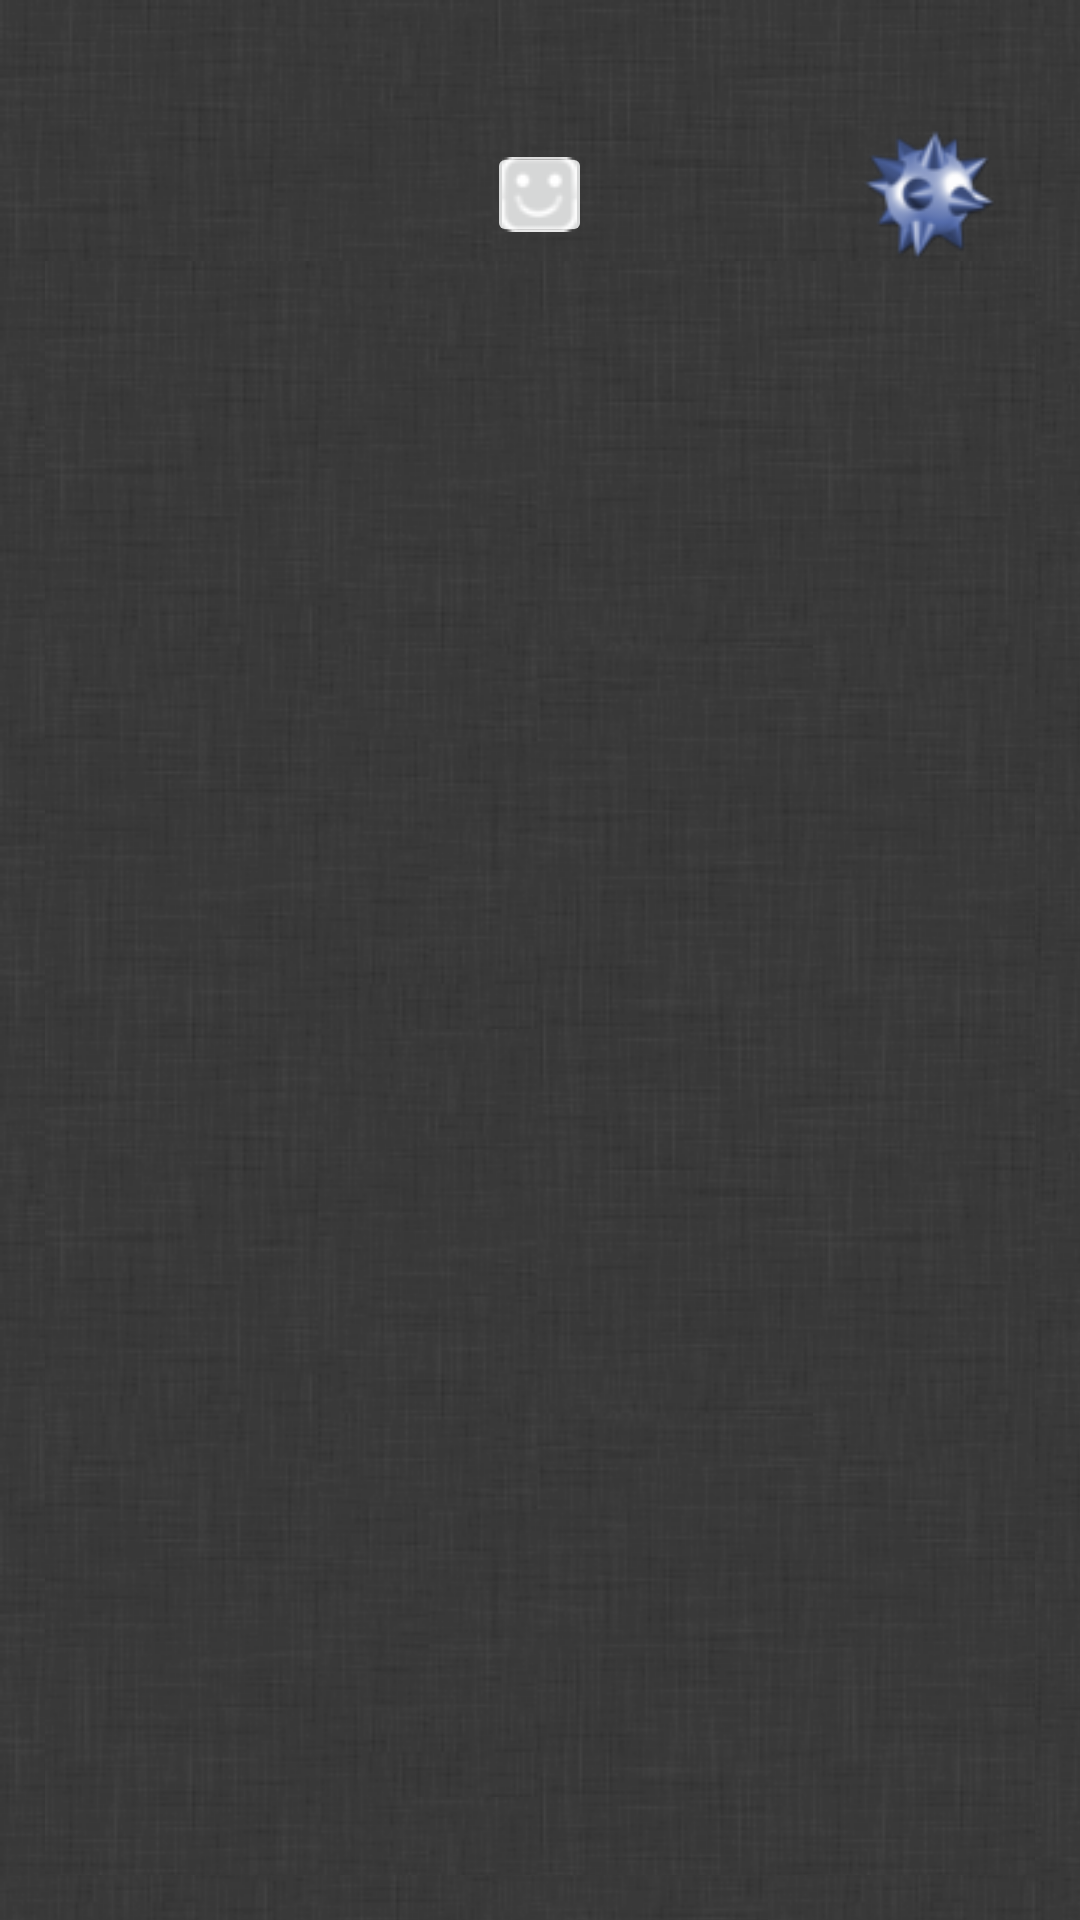

Locate icon controls on the screen. Image size 1080 × 1920, boxes as (x1, y1, x2, y2).
face happy: (499, 157, 580, 232)
mine: (867, 133, 992, 256)
